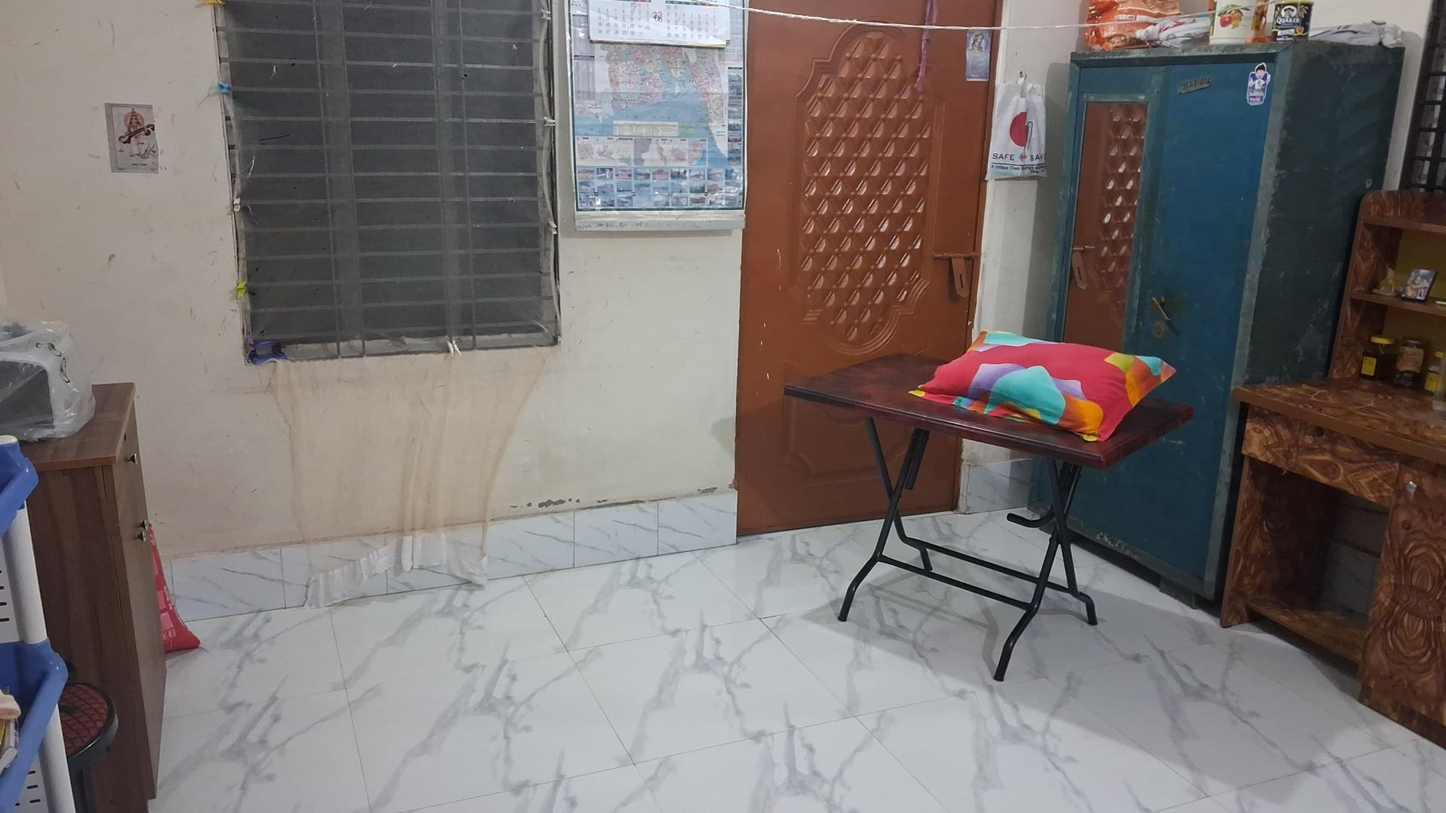Bag: (990, 75, 1051, 183)
Door: (740, 107, 984, 533)
Jar: (1210, 1, 1270, 47), (1362, 334, 1393, 383), (1274, 2, 1310, 43), (1396, 337, 1425, 386)
Photo: (104, 101, 164, 176), (965, 28, 989, 82), (1248, 65, 1271, 104)
Pillow: (910, 311, 1177, 446)
Table: (779, 326, 1182, 674)
Window: (208, 0, 577, 369)
